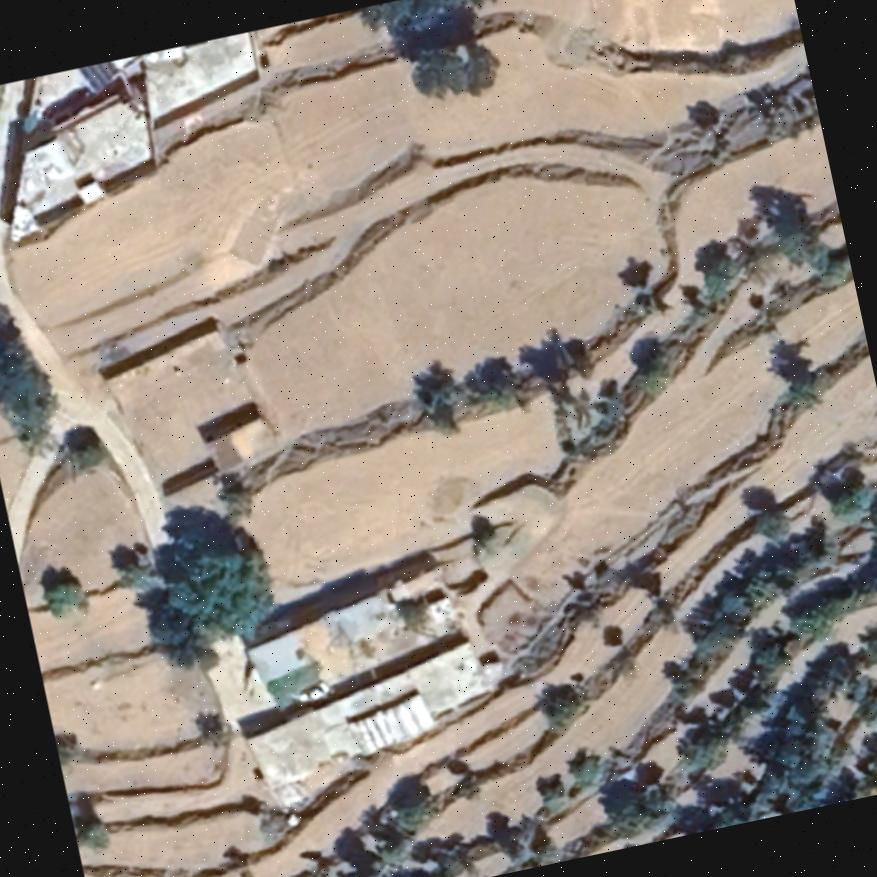Solarpanel: (72, 59, 123, 99)
